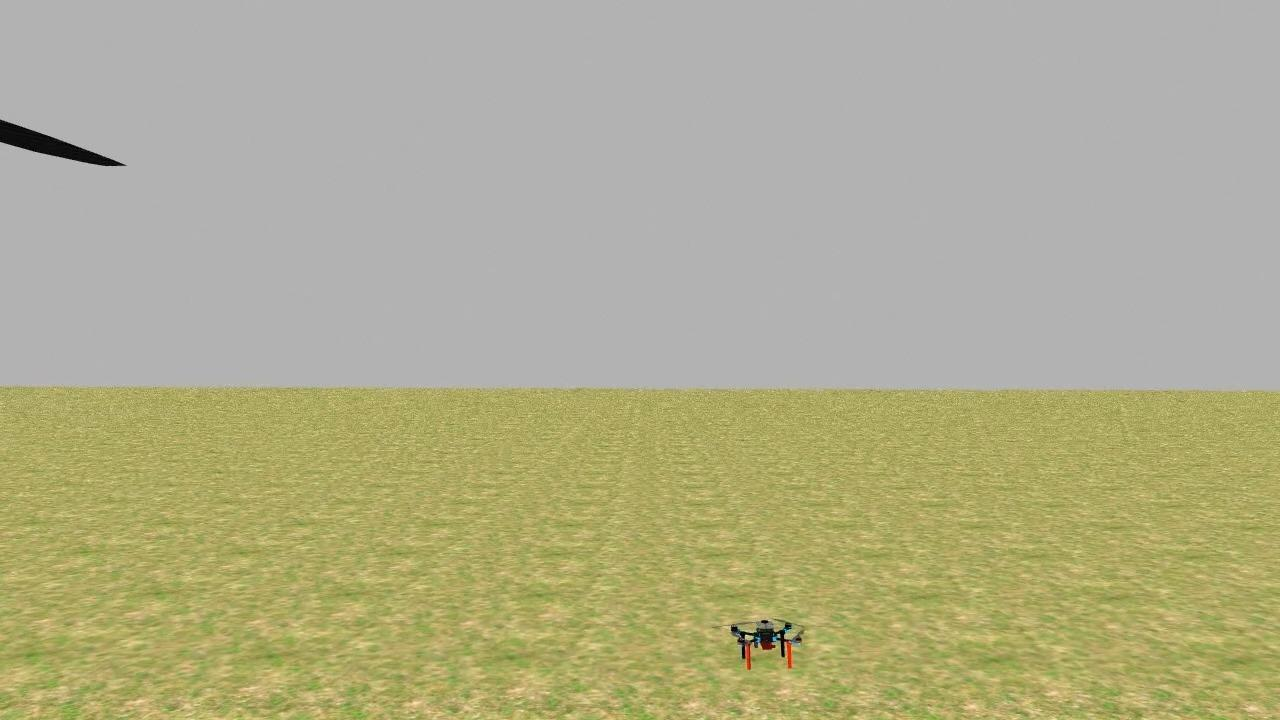UAV: (709, 601, 824, 677)
